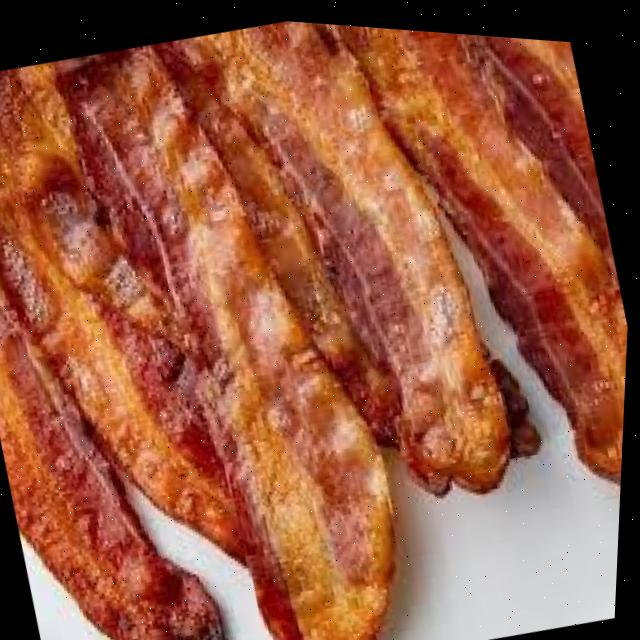Bacon: (81, 47, 397, 640), (161, 17, 532, 487), (332, 19, 630, 470), (0, 68, 260, 560), (0, 278, 228, 640)
